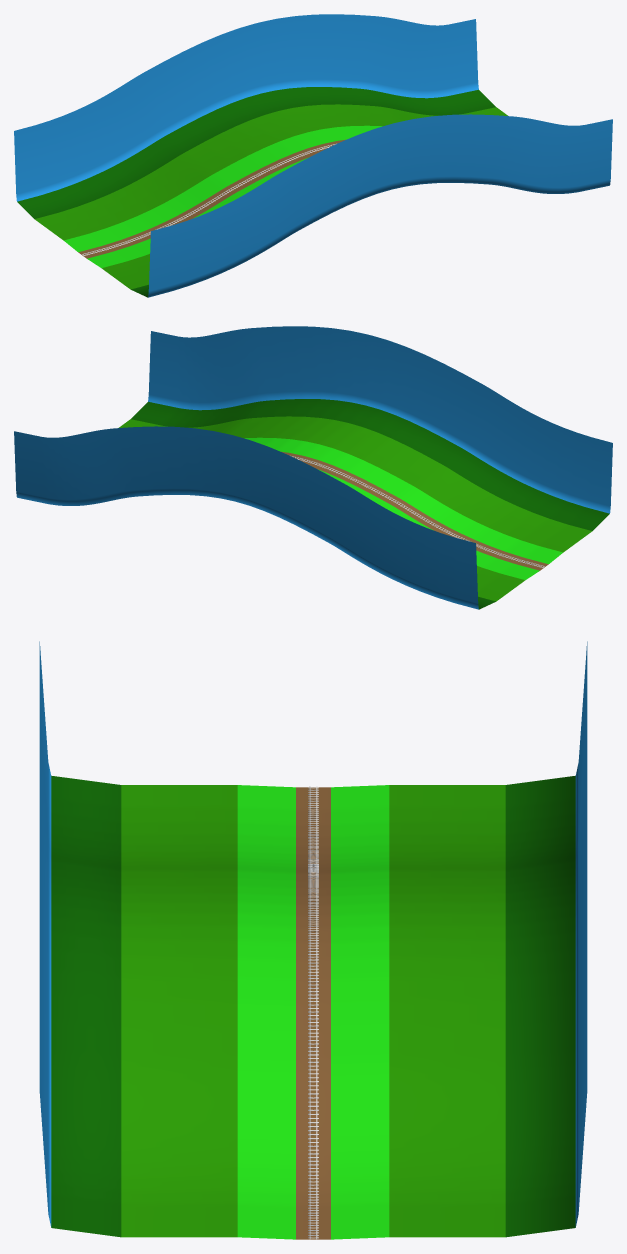
The model's file is Monte.fbx.
3 renders of one model, top to bottom at view 1: azimuth 30°, elevation 25°; view 2: azimuth 150°, elevation 25°; view 3: azimuth 270°, elevation 25°, orthographic. The views are drawn at different scales.
Parts seen in each view (by area): view 1: Monte.004; view 2: Monte.004; view 3: Monte.004.
Boxes of the visible parts, x1,y1,x2,y2 form: Monte.004: (14, 14, 612, 297); Monte.004: (14, 326, 612, 609); Monte.004: (39, 641, 587, 1239).
Size of the model in its own units: 19481 by 4987 by 10000.
